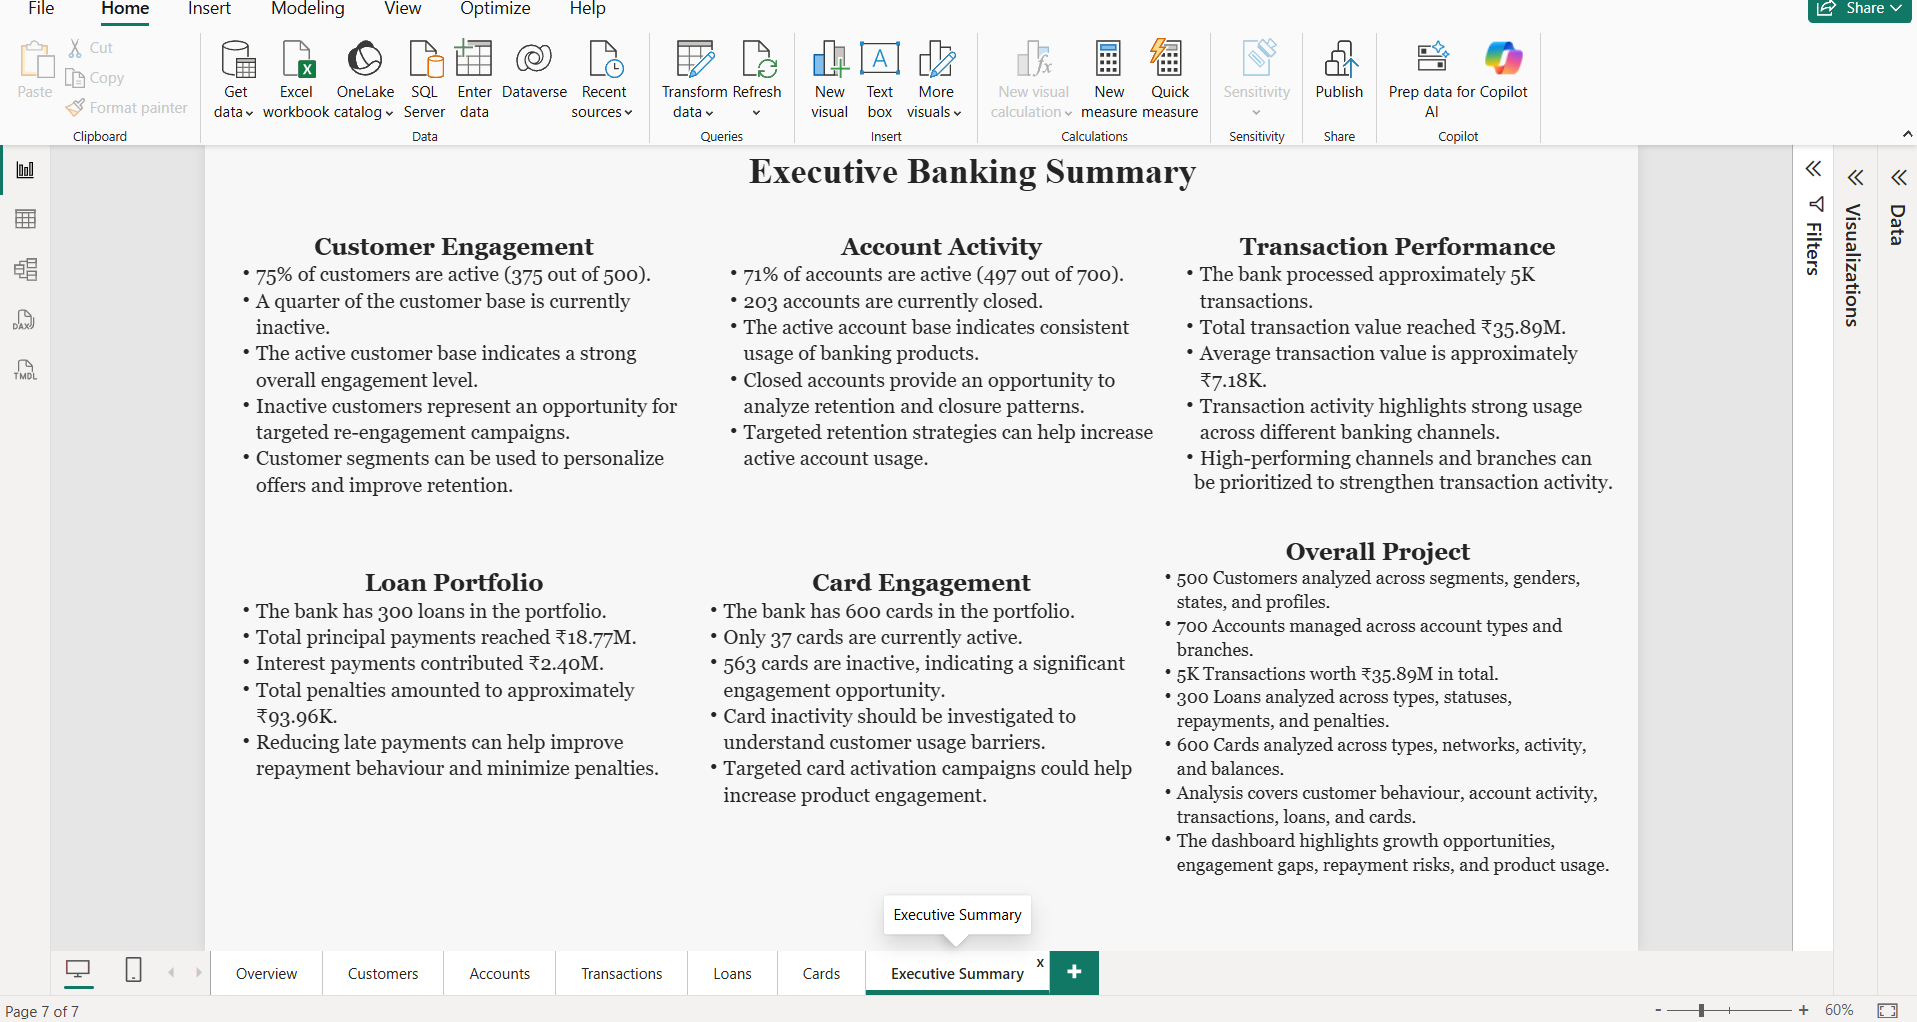

What the dashboard file says about the page in this screenshot:
{"tool":"powerbi","page":{"name":"Executive Summary","canvas":[1920,1080],"ordinal":6},"visuals":[{"type":"textbox","box":[27.9,116.9,610.5,387.2],"z":0},{"type":"textbox","box":[682,116.9,610.5,361],"z":1},{"type":"textbox","box":[1292.4,116.9,610.5,389],"z":2},{"type":"textbox","box":[27.9,568.6,610.5,397.7],"z":3},{"type":"textbox","box":[654.1,568.6,610.5,352.3],"z":4},{"type":"textbox","box":[1266.3,526.7,619.2,507.6],"z":5},{"type":"textbox","box":[723.8,8.7,610,150],"z":6}]}

Visuals, with their boxes on the page's 1920x1080 design canvas (x1, y1, x2, y2). These are canvas units, not pixel positions in the 1917x1022 screenshot, which may show the page scaled, cropped or inside an application window:
textbox: <box>28,117,638,504</box>
textbox: <box>682,117,1292,478</box>
textbox: <box>1292,117,1903,506</box>
textbox: <box>28,569,638,966</box>
textbox: <box>654,569,1265,921</box>
textbox: <box>1266,527,1886,1034</box>
textbox: <box>724,9,1334,159</box>
